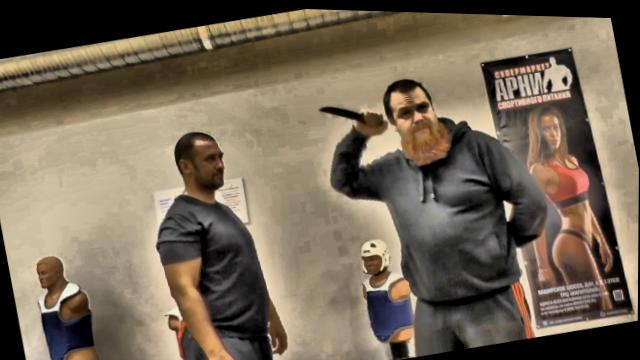knife: (313, 87, 389, 142)
